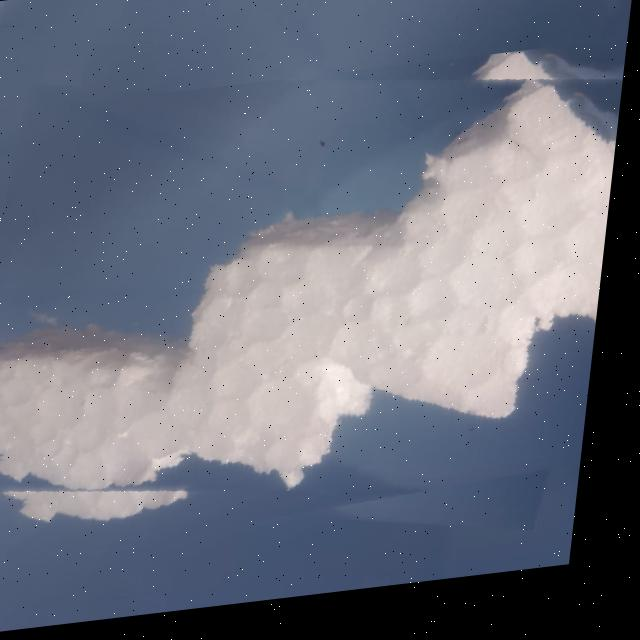thermocoal: (0, 53, 630, 574)
